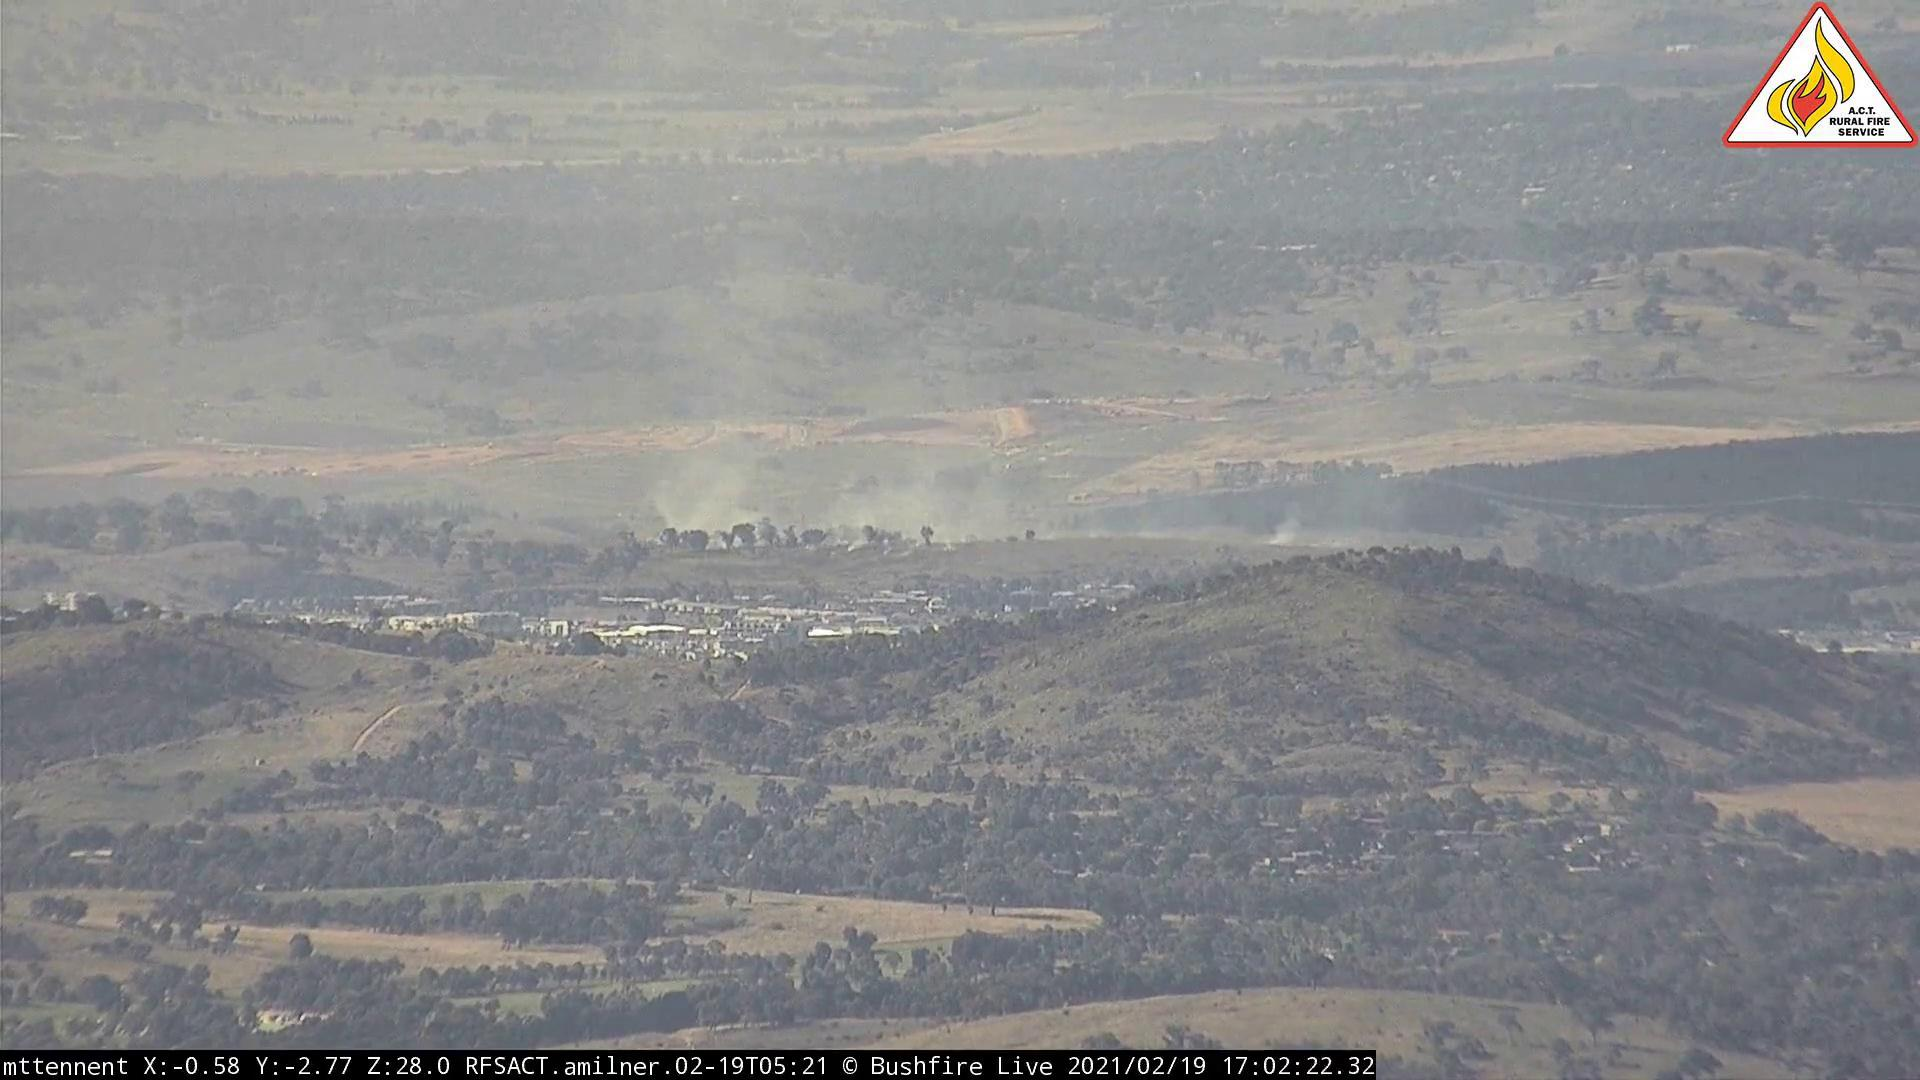Smoke: (625, 309, 1050, 545), (1254, 444, 1377, 549)
